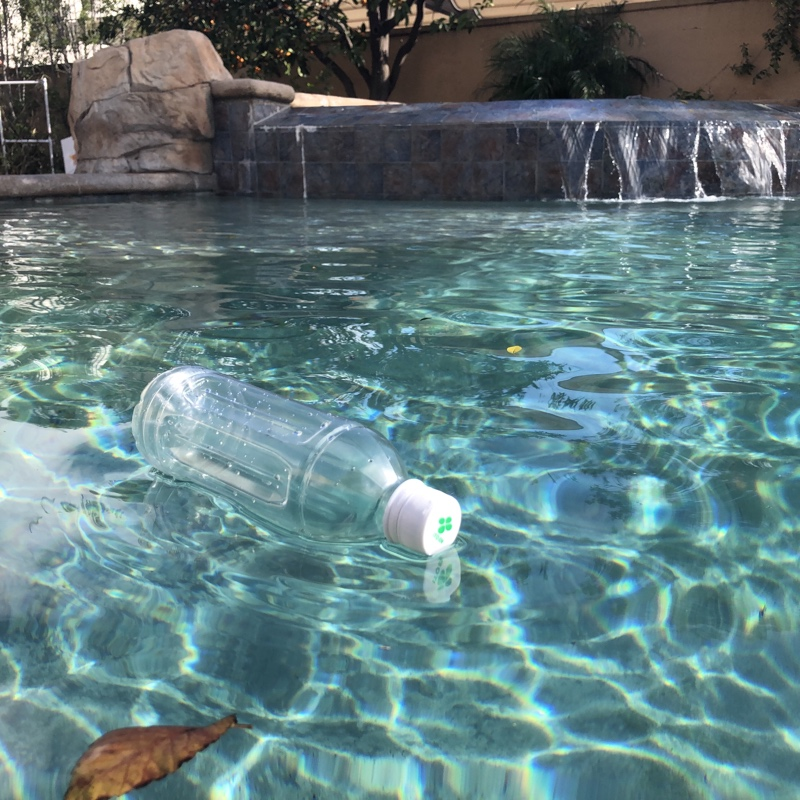Plastic Bottle: (126, 357, 465, 563)
